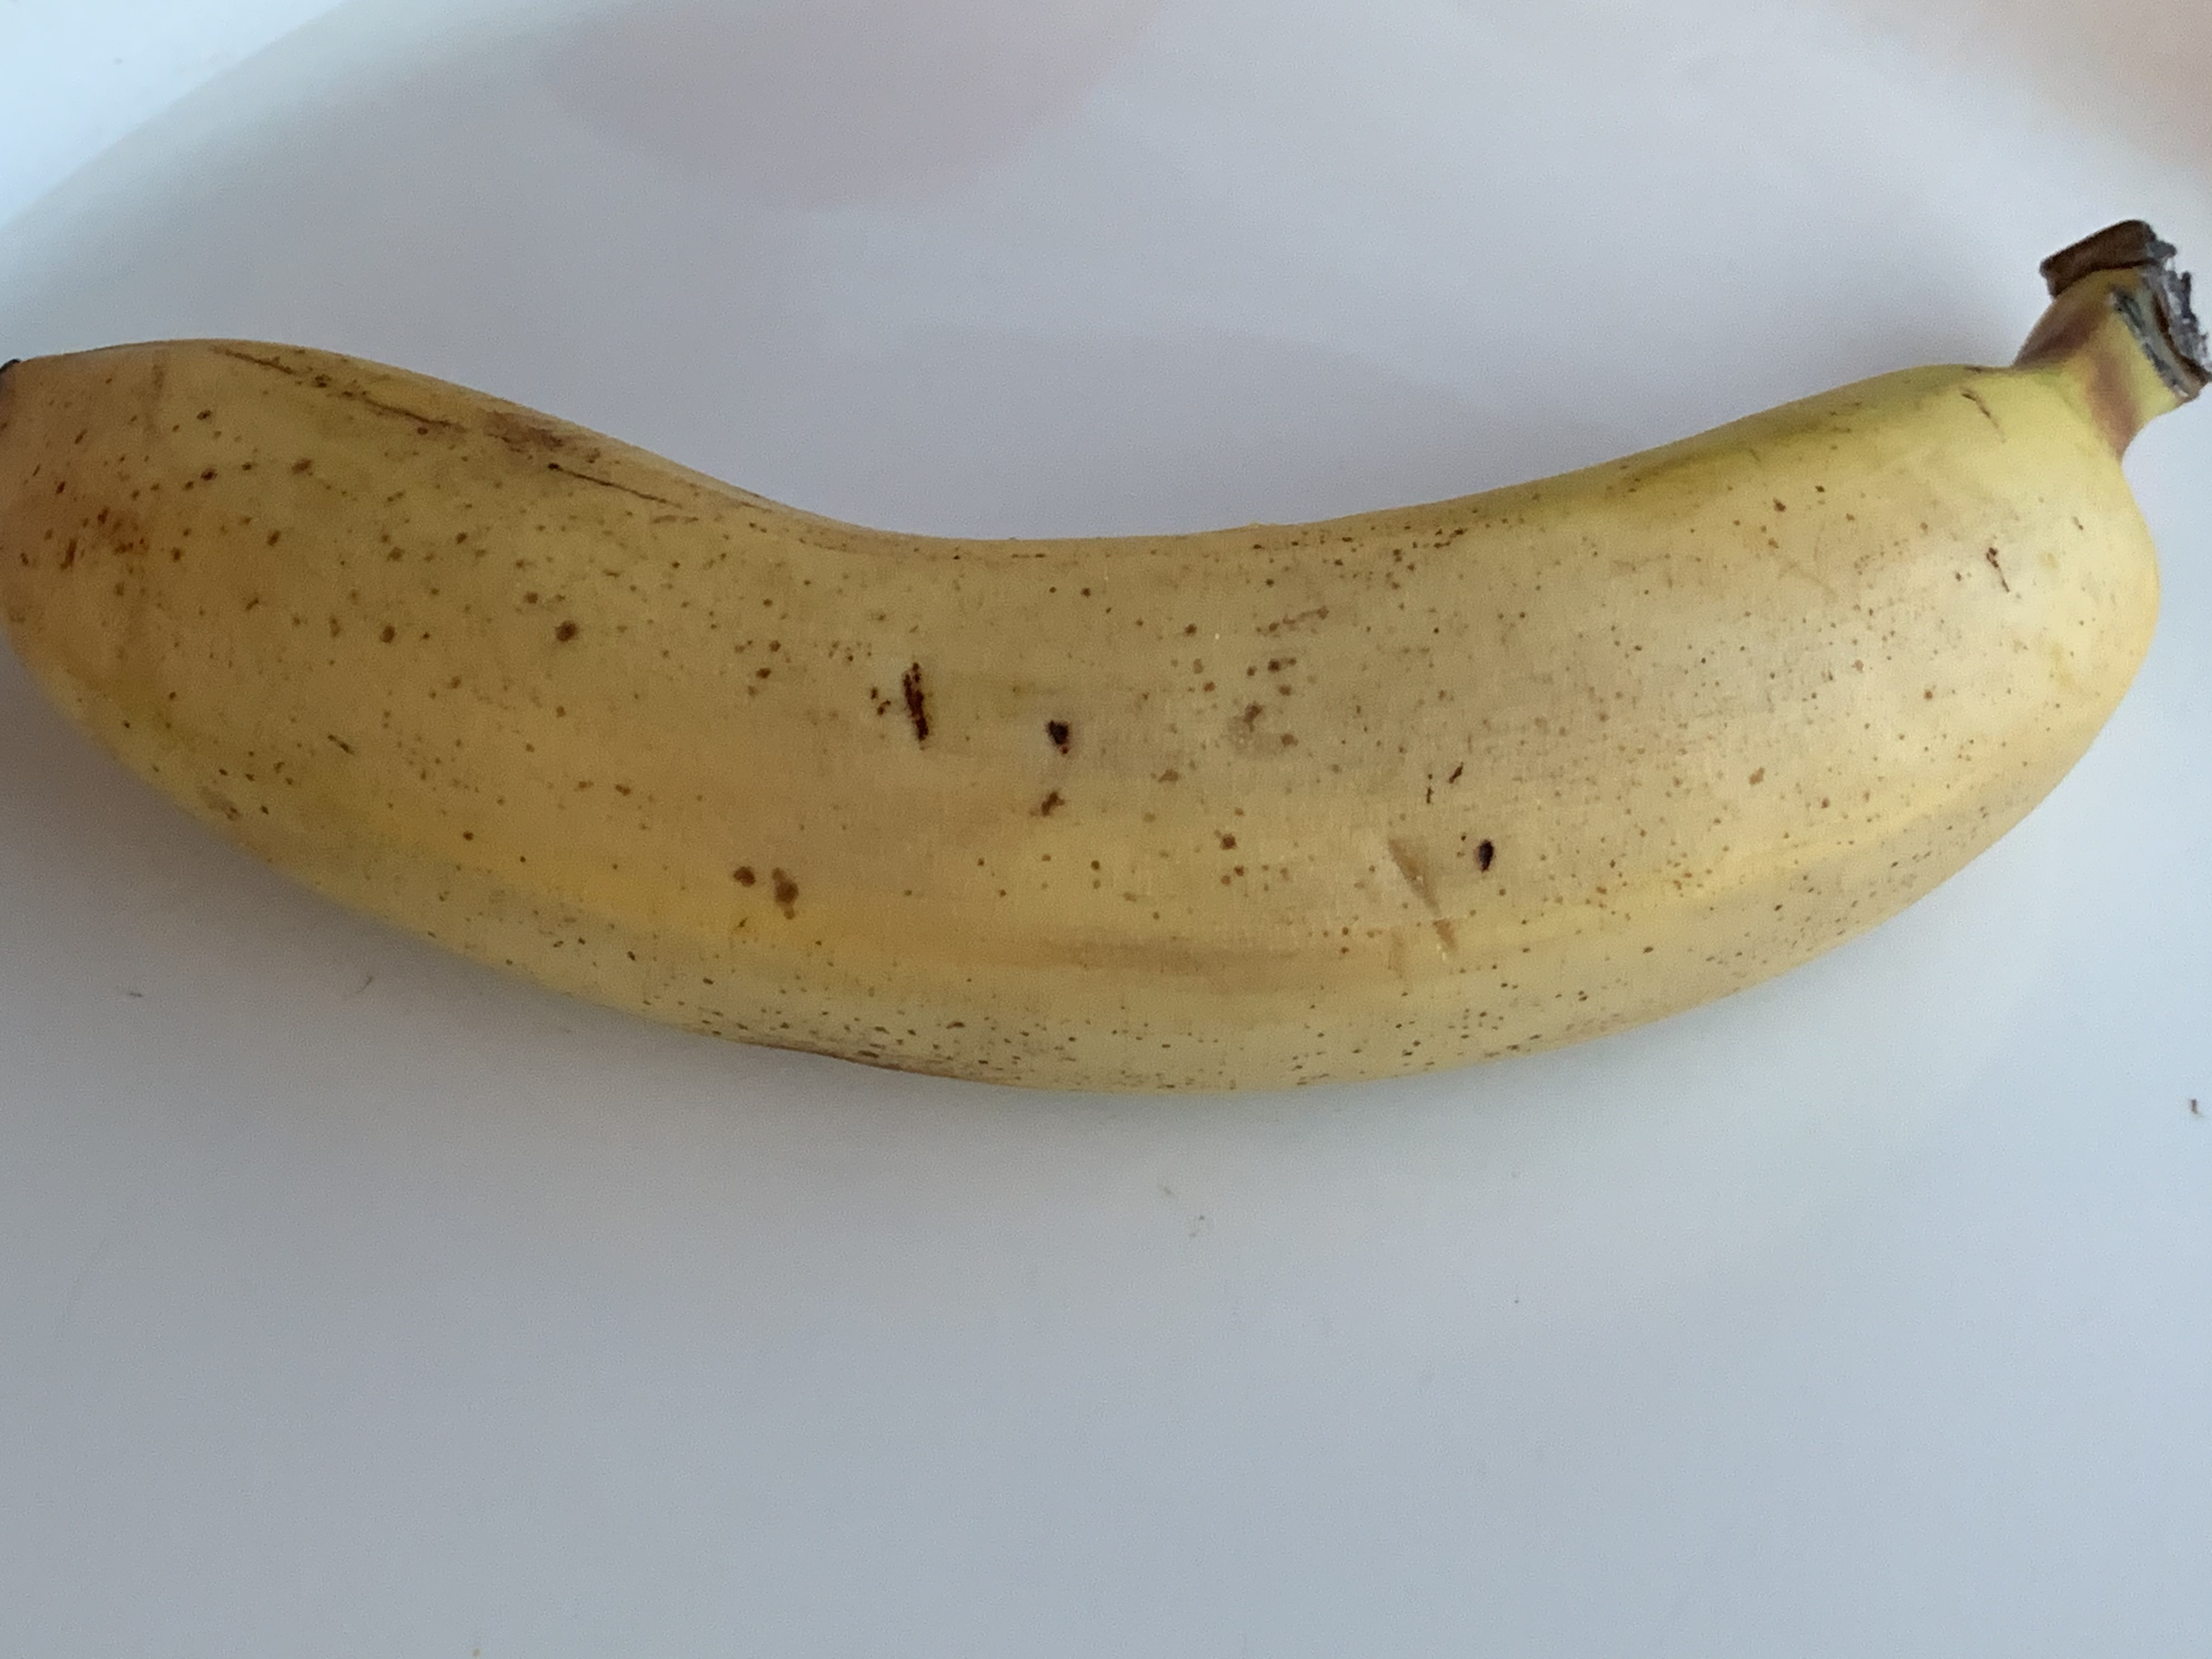banana: (21, 214, 2212, 1072)
